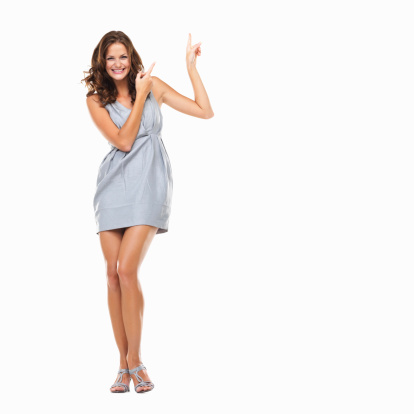em pe: (71, 10, 206, 400)
